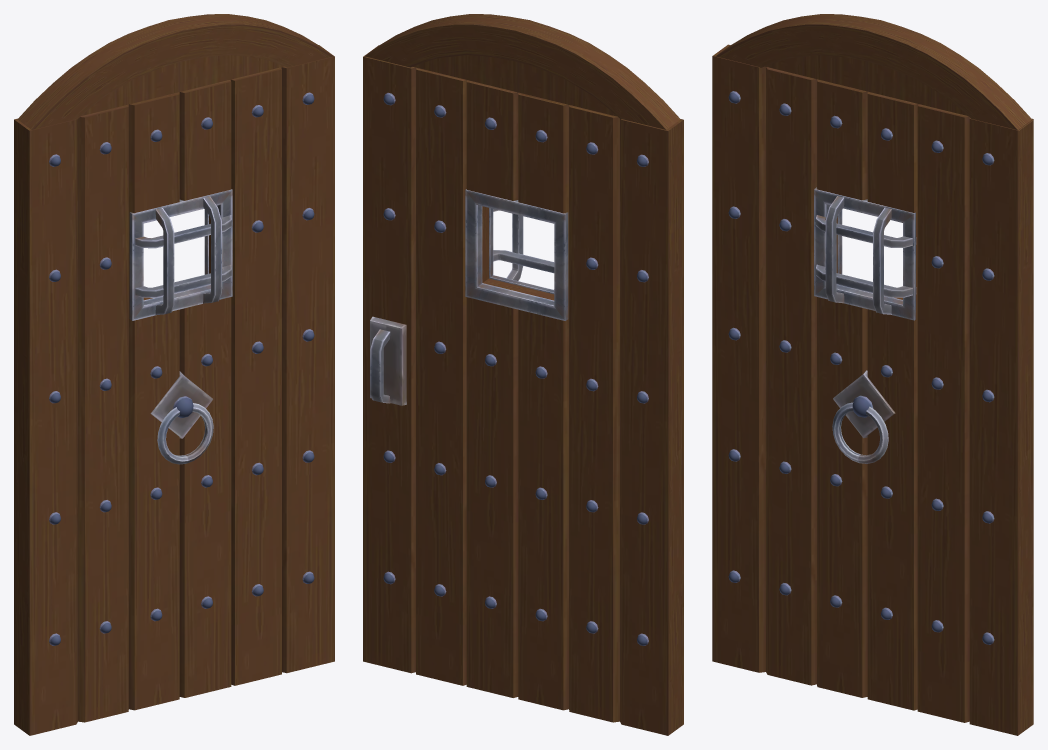
Rendered from Door_2_Round.glb.
The picture shows the model from 3 angles, left to right: view 1: azimuth 30°, elevation 25°; view 2: azimuth 150°, elevation 25°; view 3: azimuth 330°, elevation 25°; orthographic projection.
Parts seen in each view (by area): view 1: Door_2_Round; view 2: Door_2_Round; view 3: Door_2_Round.
Part boxes in pixels (x1,y1,x2,y2): Door_2_Round: [14, 14, 334, 735]; Door_2_Round: [363, 14, 683, 735]; Door_2_Round: [712, 14, 1033, 735].
Size of the model in its own units: 1.12 by 2.33 by 0.2608.
2 materials, 2 textured.
